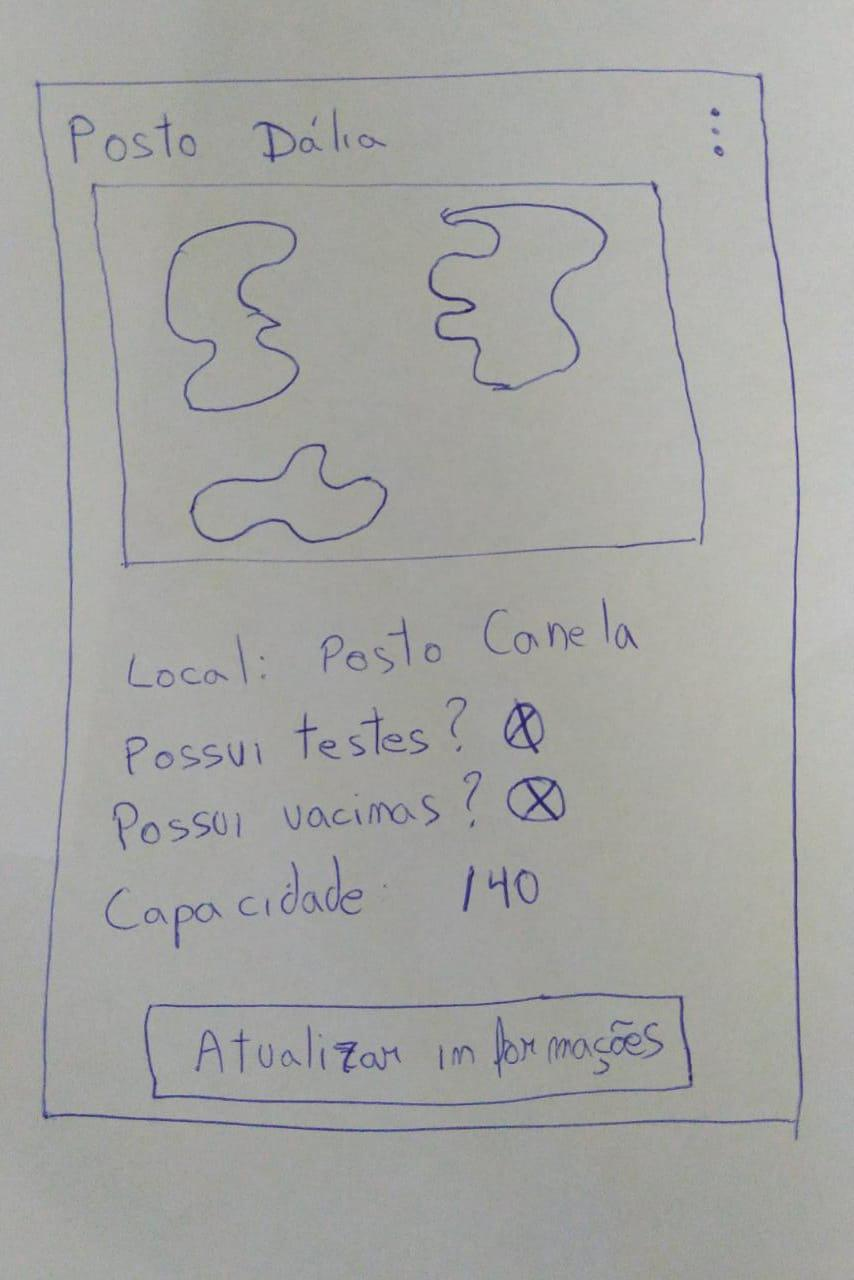Button: (144, 991, 693, 1106), (126, 596, 641, 689)
Image: (505, 776, 567, 822), (499, 699, 548, 751)
Label: (111, 770, 484, 853), (124, 694, 471, 776), (105, 853, 367, 950), (68, 106, 389, 166), (460, 864, 540, 912), (699, 99, 734, 168)
Map: (93, 180, 707, 568)
Screen: (36, 65, 801, 1132)
